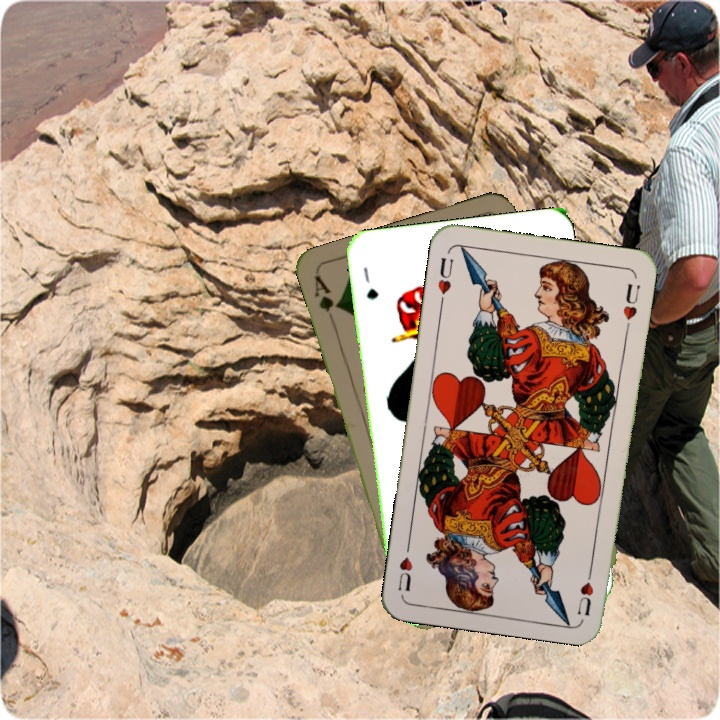GA: (310, 272, 342, 329)
GU: (359, 263, 381, 302)
HU: (574, 560, 596, 619), (433, 253, 456, 307)
